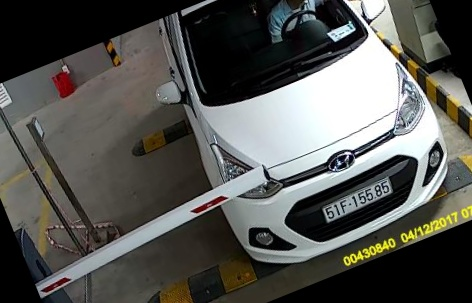plate: (322, 174, 391, 225)
